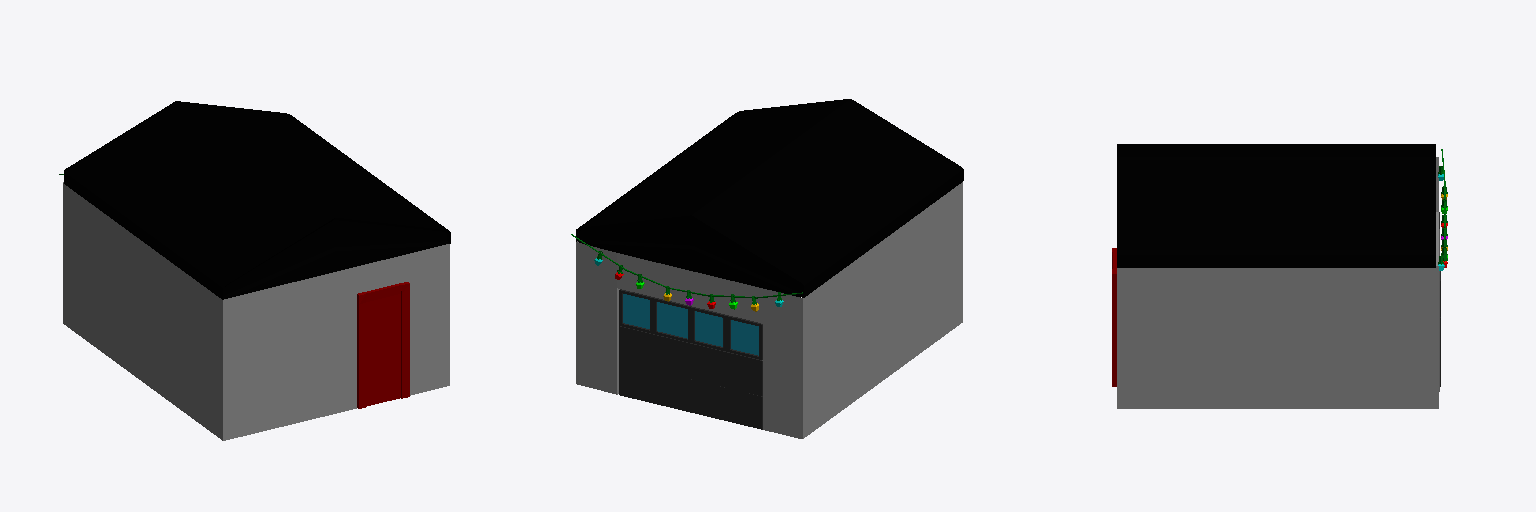
File: Storage_Shed_1.obj
The picture shows the model from 3 angles: view 1: azimuth 30°, elevation 25°; view 2: azimuth 150°, elevation 25°; view 3: azimuth 270°, elevation 25°; orthographic projection.
Visible parts, largest first — view 1: tool_shop, small_roof, Door_single; view 2: small_roof, tool_shop, Object738, Decor_light036; view 3: tool_shop, small_roof, Door_single, Decor_light036.
Part boxes in pixels (x1,y1,x2,y2): tool_shop: (63,182,449,440); small_roof: (64,101,450,299); Door_single: (357,282,409,408); small_roof: (576,99,963,297); tool_shop: (576,182,962,438); Object738: (619,289,762,429); Decor_light036: (571,234,802,311); tool_shop: (1117,157,1439,408); small_roof: (1117,144,1435,267); Door_single: (1112,248,1116,386); Decor_light036: (1438,149,1447,270).
Size of the model in its own units: 4.61 by 3.74 by 5.78.